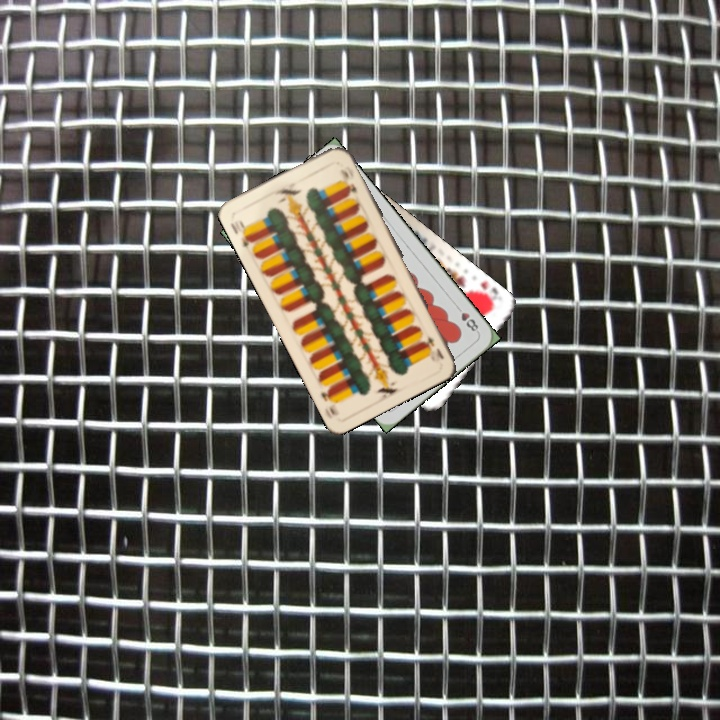E10: (226, 216, 256, 249), (423, 331, 447, 362)
H8: (452, 301, 481, 336)
HK: (471, 277, 501, 308)
